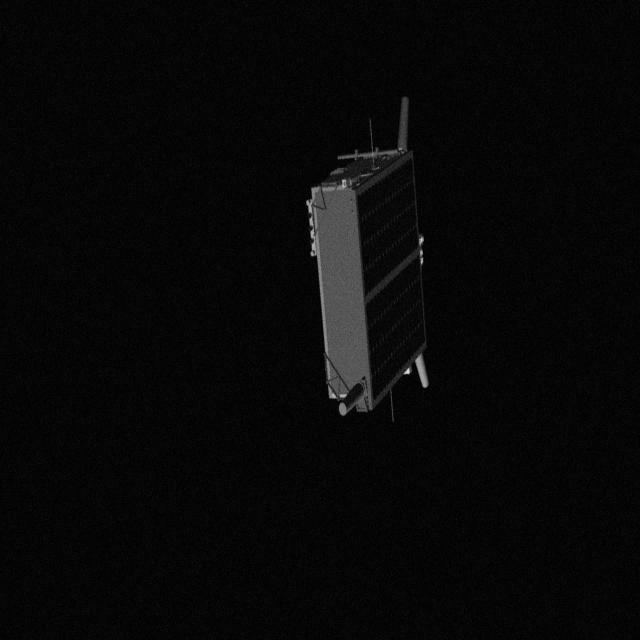medium_debris: (306, 76, 442, 434)
